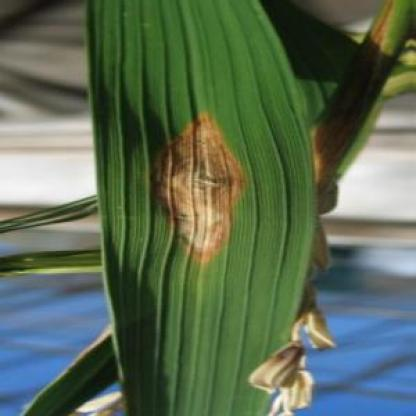Rice blast: (148, 113, 255, 274)
